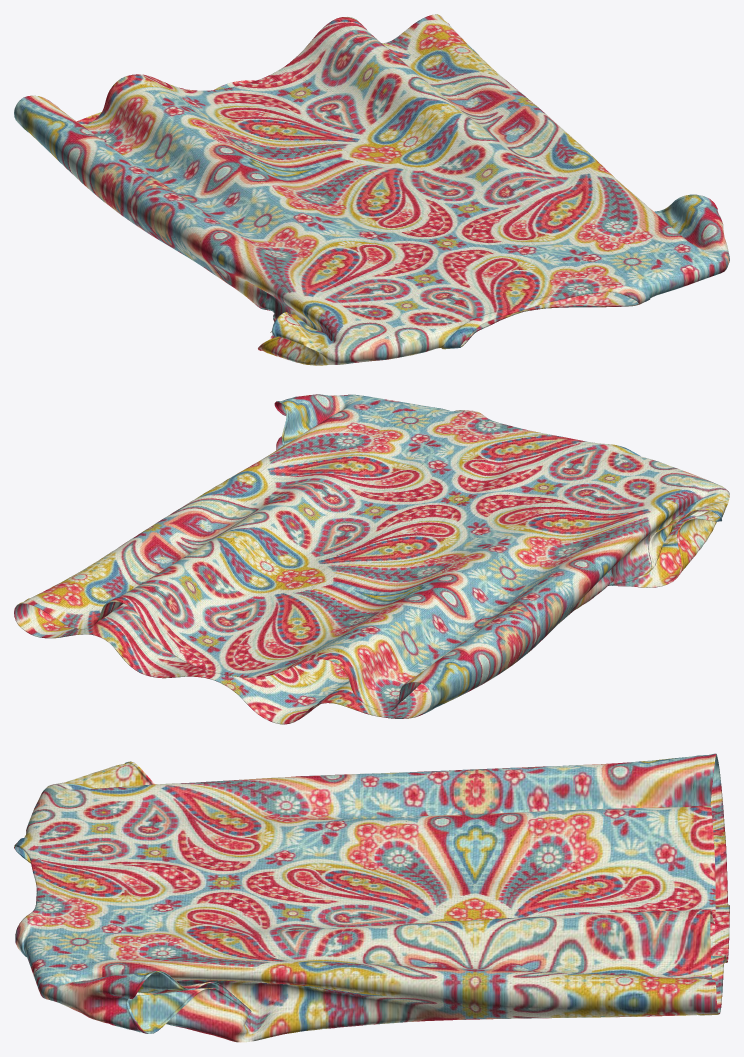
The model's file is TNSC_Tshirt_clo08_5.obj.
3 views of the same model, one above another, from view 1: azimuth 30°, elevation 25°; view 2: azimuth 150°, elevation 25°; view 3: azimuth 270°, elevation 25° (orthographic). The views are drawn at different scales.
Bounding box in the file's own units: 16.15 × 3.03 × 20.69.
Materials: 1 (1 with a texture image).
